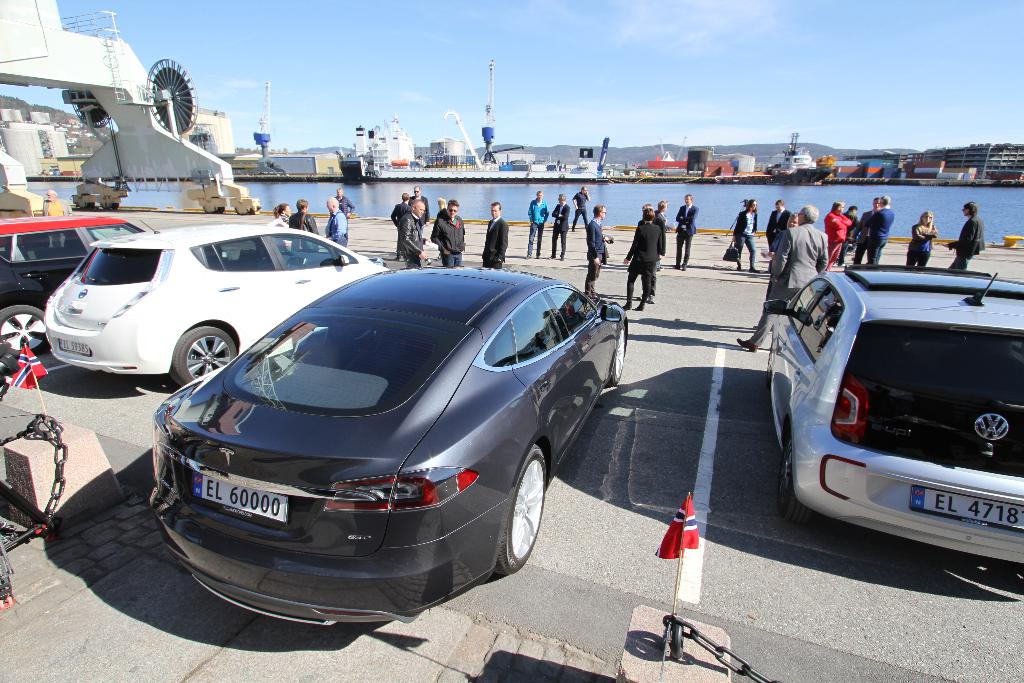mobil: (152, 265, 633, 634), (756, 259, 1024, 574), (38, 227, 400, 379)
